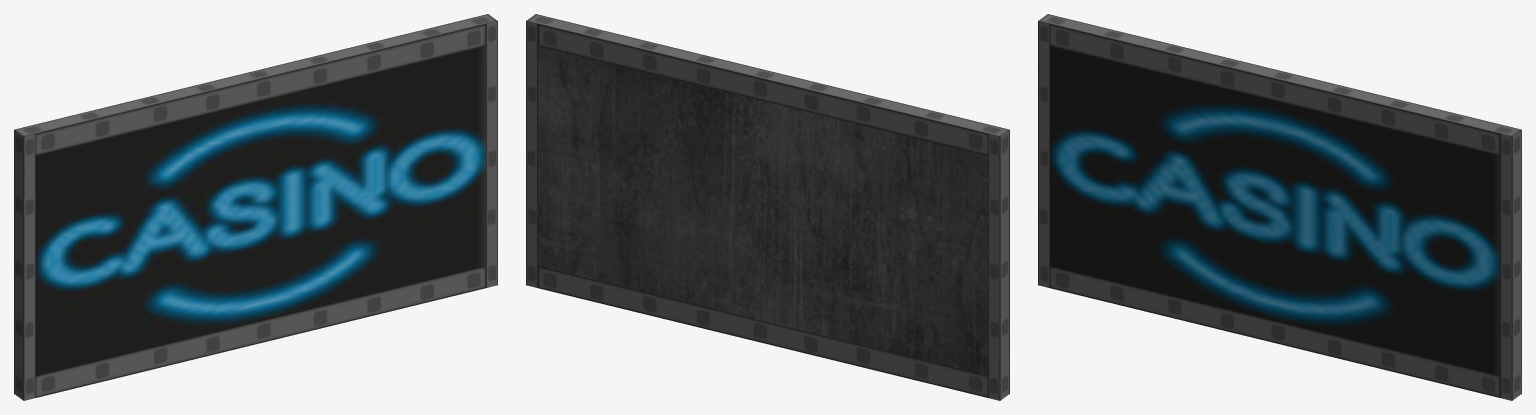
File: sign board9.FBX
The picture shows the model from 3 angles, left to right: view 1: azimuth 30°, elevation 25°; view 2: azimuth 150°, elevation 25°; view 3: azimuth 330°, elevation 25°; orthographic projection.
Parts seen in each view (by area): view 1: sign board9; view 2: sign board9; view 3: sign board9.
Boxes of the visible parts, x1,y1,x2,y2 form: sign board9: [14, 14, 497, 400]; sign board9: [526, 14, 1009, 400]; sign board9: [1038, 14, 1521, 400].
Size of the model in its own units: 9.23 by 4.91 by 0.3264.
